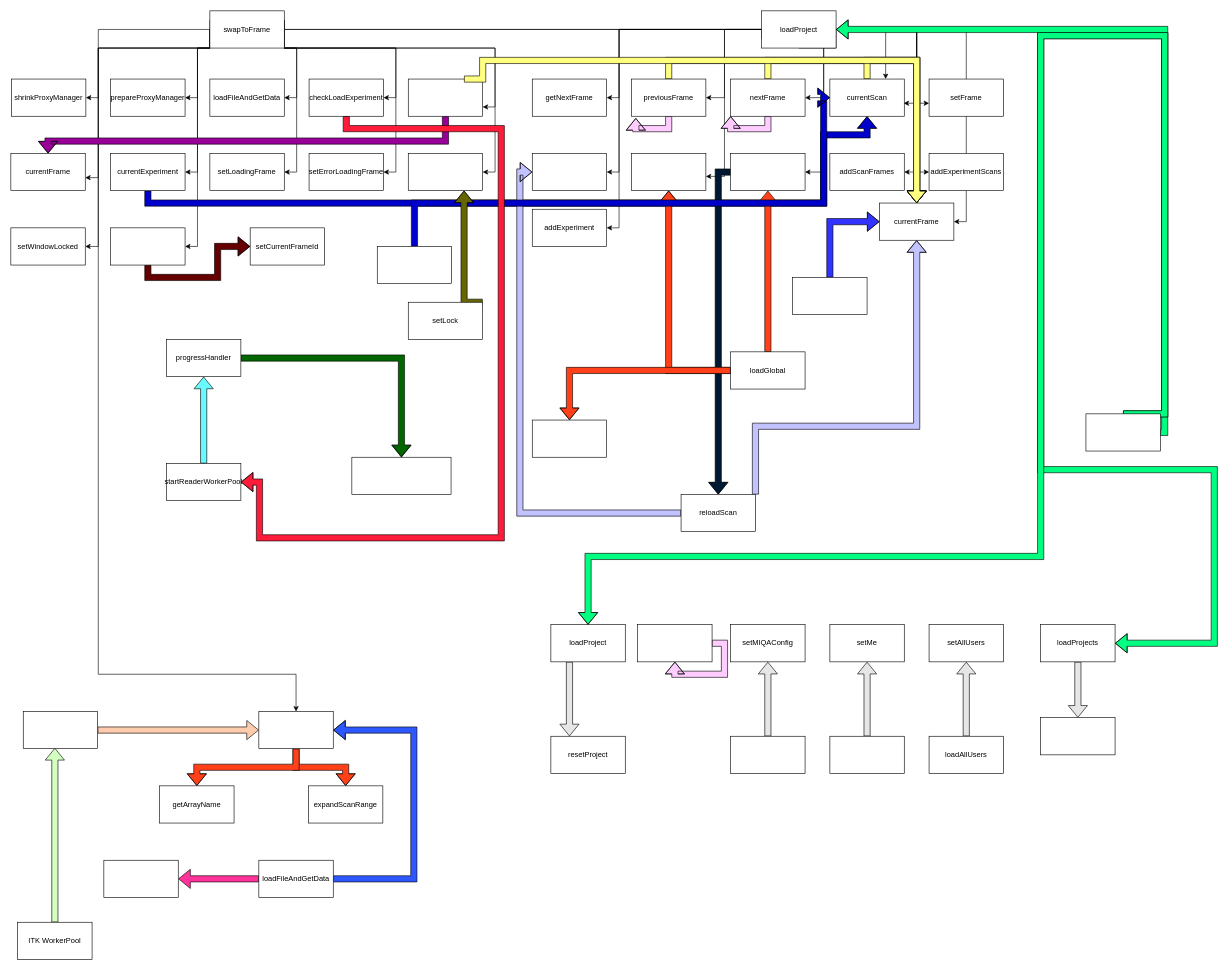
Some shapes in this 1228 by 970 pixel diagram are drawn without their labels. The centre of each missing label's shape, as x and y in pixels:
"addScanDecision" goes at pixel 414 265.
"currentViewData" goes at pixel 445 97.
"getData" goes at pixel 295 730.
"getFrame" goes at pixel 1122 432.
"loadConfiguration" goes at pixel 767 754.
"loadFile" goes at pixel 140 878.
"loadMe" goes at pixel 866 754.
"poolFunction" goes at pixel 60 730.
"reset" goes at pixel 674 643.
"setCurrentFrame" goes at pixel 147 246.
"setCurrentProject" goes at pixel 668 172.
"setFrameEvaluation" goes at pixel 829 296.
"setGlobalSettings" goes at pixel 569 438.
"setProjects" goes at pixel 1077 736.
"setScan" goes at pixel 569 172.
"setScanCachedPercentage" goes at pixel 401 475.
"setTaskOverview" goes at pixel 767 172.
"updateExperiment" goes at pixel 445 172.
